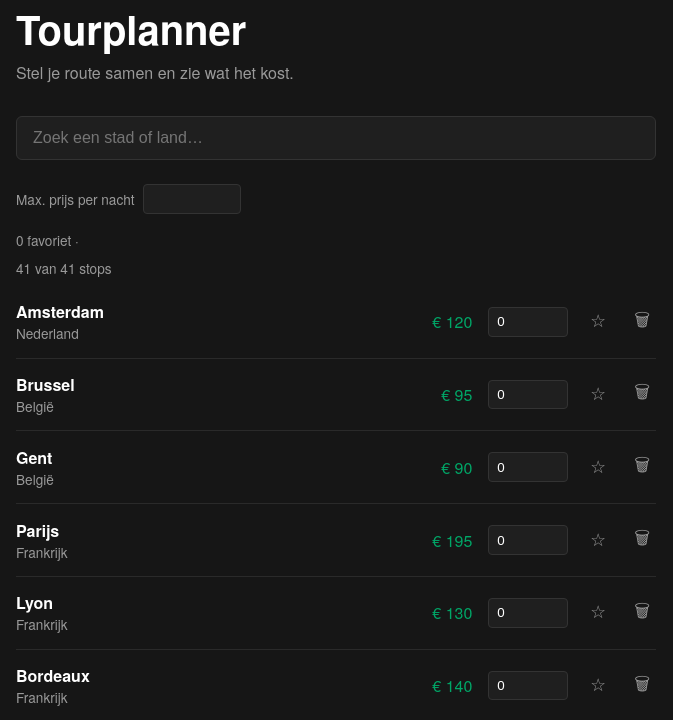
Test: Tourplanner › filtert de lijst op de zoekterm
The image size is (673, 720).
Type "porto" into the search field named "Zoek stops" at (336, 138), box [16,116,656,160]
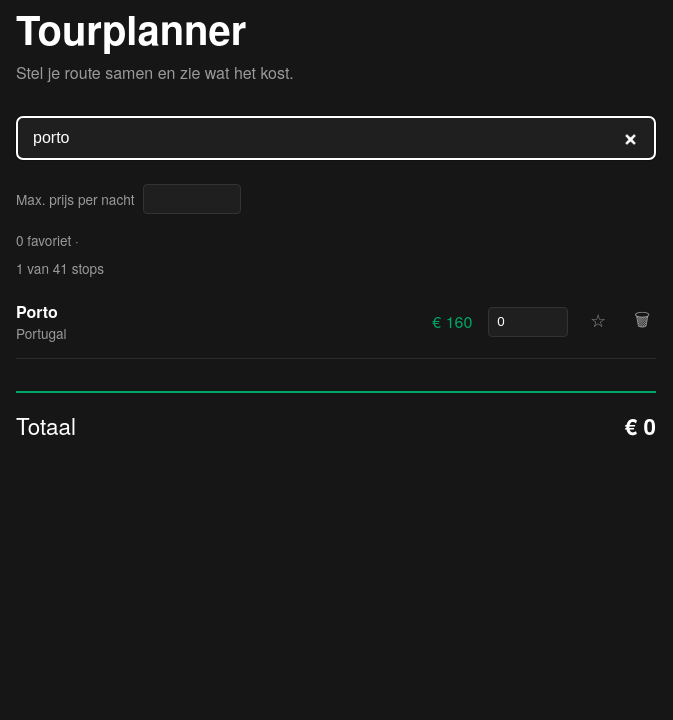
Expected: the text "Porto" is shown, [16,300,58,323]
Expected: the number of list items is 1, [16,286,656,359]
